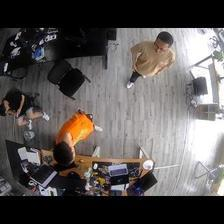normal: (123, 32, 176, 93), (54, 109, 102, 163)
